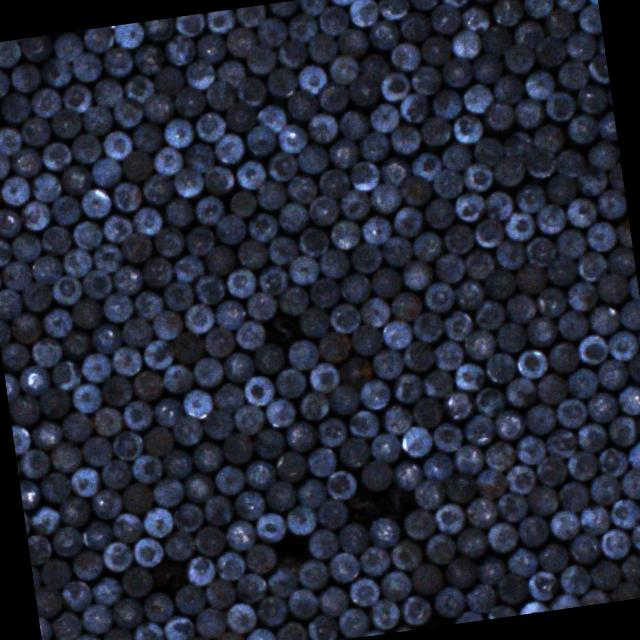tool: (467, 534, 519, 592), (80, 562, 134, 614), (282, 462, 338, 511), (308, 570, 358, 623), (22, 490, 72, 540), (71, 506, 120, 556), (337, 351, 375, 389), (180, 468, 218, 505), (397, 590, 435, 626), (584, 389, 622, 425), (510, 178, 548, 214), (542, 171, 580, 207), (232, 156, 270, 192), (242, 122, 280, 158), (554, 56, 592, 92), (160, 31, 198, 67), (556, 478, 593, 514), (222, 516, 258, 553), (170, 498, 207, 534), (479, 436, 516, 472), (513, 345, 550, 381), (120, 148, 156, 185), (532, 120, 569, 156), (523, 66, 560, 102), (160, 114, 197, 150), (170, 83, 207, 119), (386, 121, 424, 156), (494, 571, 530, 607), (110, 594, 146, 630), (409, 560, 445, 596), (294, 556, 330, 592), (454, 524, 490, 560), (304, 525, 340, 561), (473, 464, 509, 500), (220, 429, 256, 465), (533, 370, 569, 406), (110, 426, 146, 462), (8, 310, 44, 346), (357, 376, 393, 412), (430, 336, 466, 372), (564, 278, 600, 314), (305, 190, 341, 226), (397, 172, 433, 208), (594, 270, 630, 306), (78, 186, 114, 222), (121, 70, 157, 106), (8, 58, 44, 94), (192, 108, 228, 144), (273, 448, 308, 485), (158, 277, 195, 312), (68, 49, 105, 84), (460, 81, 497, 116), (452, 274, 486, 312), (152, 222, 186, 260), (120, 479, 156, 514), (224, 600, 259, 636), (442, 554, 477, 590), (568, 530, 603, 566), (516, 513, 552, 548), (577, 502, 612, 538), (432, 500, 468, 535), (464, 495, 500, 530), (525, 482, 560, 518), (412, 476, 448, 511), (512, 430, 547, 466), (398, 423, 434, 458), (378, 402, 414, 437), (140, 423, 176, 458), (59, 408, 94, 444), (150, 392, 185, 428), (149, 306, 185, 341), (119, 229, 154, 265), (452, 359, 488, 394), (181, 384, 216, 420), (522, 314, 558, 349), (554, 307, 590, 342), (421, 280, 456, 316), (512, 261, 548, 296), (398, 257, 434, 292), (461, 246, 496, 282), (328, 216, 363, 252), (592, 186, 628, 221), (48, 193, 84, 228), (9, 144, 44, 180), (130, 119, 166, 154), (100, 44, 136, 79), (439, 138, 474, 174), (471, 134, 506, 170), (200, 163, 236, 198), (512, 96, 548, 131), (543, 88, 578, 124), (211, 130, 247, 165), (275, 120, 310, 156), (305, 110, 340, 146), (491, 70, 526, 106), (470, 50, 506, 85), (500, 41, 536, 76), (201, 76, 236, 112), (449, 25, 484, 61), (480, 22, 516, 57), (254, 14, 290, 49), (68, 380, 105, 414), (489, 154, 526, 188), (408, 62, 445, 96), (367, 596, 402, 631), (432, 583, 467, 618), (556, 561, 591, 596), (192, 605, 227, 640), (202, 575, 237, 610), (388, 537, 423, 572), (337, 434, 372, 469), (461, 411, 496, 446), (523, 401, 558, 436), (189, 438, 224, 473), (79, 433, 114, 468), (27, 416, 62, 451), (88, 320, 123, 355), (492, 320, 527, 355), (160, 362, 195, 397), (348, 323, 383, 358), (472, 297, 507, 332), (368, 263, 403, 298), (140, 254, 175, 289), (605, 326, 640, 361), (565, 112, 600, 147), (428, 86, 463, 121), (357, 47, 392, 82), (304, 30, 339, 65), (367, 15, 402, 50), (428, 1, 463, 36), (464, 580, 498, 616), (586, 558, 622, 592), (38, 554, 74, 588), (89, 486, 125, 520), (286, 586, 320, 622), (535, 538, 569, 574), (600, 524, 634, 560), (326, 549, 360, 585), (486, 518, 520, 554), (366, 514, 400, 550), (504, 460, 538, 496), (564, 448, 600, 482), (544, 426, 580, 460), (430, 420, 466, 454), (282, 418, 318, 452), (47, 440, 83, 474), (78, 266, 114, 300), (262, 396, 298, 430), (390, 370, 426, 404), (306, 359, 342, 393), (402, 338, 436, 374), (220, 350, 256, 384), (502, 291, 538, 325), (200, 324, 236, 358), (274, 283, 310, 317), (306, 276, 342, 310), (524, 232, 558, 268), (190, 272, 226, 306), (347, 240, 383, 274), (201, 242, 237, 276), (233, 236, 269, 270), (390, 204, 426, 238), (212, 212, 248, 246), (366, 181, 402, 215), (428, 166, 464, 200), (574, 247, 608, 283), (584, 218, 618, 254), (140, 172, 176, 206), (48, 105, 84, 139), (40, 54, 74, 90), (284, 172, 320, 206), (264, 148, 300, 182), (418, 113, 454, 147), (574, 82, 610, 116), (334, 106, 370, 140), (397, 90, 433, 124), (222, 100, 258, 134), (316, 80, 352, 114), (377, 69, 413, 103), (564, 28, 600, 62), (232, 75, 268, 109), (264, 64, 298, 100), (336, 24, 370, 60), (224, 24, 258, 60), (284, 10, 320, 44), (295, 224, 332, 257), (328, 134, 361, 171), (526, 568, 560, 603), (119, 564, 154, 598), (100, 540, 135, 574), (100, 457, 134, 492), (172, 582, 207, 616), (243, 542, 278, 576), (401, 506, 436, 540), (242, 457, 276, 492), (368, 430, 403, 464), (492, 406, 526, 441), (411, 395, 446, 429), (566, 365, 600, 400), (596, 356, 630, 391), (99, 372, 133, 407), (170, 412, 204, 447), (327, 382, 361, 417), (286, 336, 321, 370), (317, 329, 351, 364), (327, 300, 362, 334), (388, 288, 423, 322), (224, 265, 258, 300), (172, 250, 206, 285), (460, 159, 495, 193), (523, 146, 558, 180), (39, 222, 74, 256), (110, 179, 144, 214), (59, 80, 94, 114), (90, 74, 125, 108), (347, 159, 382, 193), (296, 142, 331, 176), (450, 112, 485, 146), (534, 33, 568, 68), (398, 9, 432, 44), (48, 607, 84, 640), (232, 571, 268, 604), (587, 472, 623, 505), (182, 300, 218, 333), (212, 296, 248, 329), (408, 228, 444, 261), (440, 222, 476, 255), (422, 195, 458, 228), (28, 170, 64, 203), (255, 177, 288, 213), (316, 165, 352, 198), (408, 149, 444, 182), (180, 140, 216, 173), (80, 602, 114, 636), (142, 589, 176, 623), (70, 548, 104, 582), (50, 524, 84, 558), (111, 510, 145, 544), (56, 493, 90, 527), (68, 464, 102, 498), (255, 594, 289, 628), (264, 565, 298, 599), (358, 544, 392, 578), (423, 532, 457, 566), (182, 554, 216, 588), (336, 521, 370, 555), (534, 454, 568, 488), (231, 488, 265, 522), (554, 394, 588, 428), (252, 426, 286, 460), (596, 444, 630, 478), (38, 386, 72, 420), (130, 368, 164, 402), (140, 337, 174, 371), (120, 314, 154, 348), (40, 305, 74, 339), (100, 290, 134, 324), (232, 402, 266, 436), (297, 388, 331, 422), (546, 340, 580, 374), (370, 346, 404, 380), (462, 326, 496, 360), (440, 308, 474, 342), (534, 284, 568, 318), (358, 295, 392, 329), (244, 288, 278, 322), (432, 250, 466, 284), (554, 226, 588, 260), (286, 252, 320, 286), (472, 214, 506, 248), (266, 232, 300, 266), (359, 212, 393, 246), (183, 222, 217, 256), (244, 208, 278, 242), (586, 302, 620, 336), (564, 195, 598, 229), (100, 210, 134, 244), (18, 198, 52, 232), (60, 163, 94, 197), (81, 103, 115, 137), (29, 84, 63, 118), (162, 194, 196, 228), (482, 98, 516, 132), (150, 144, 184, 178), (367, 100, 401, 134), (346, 74, 380, 108), (418, 32, 452, 66), (183, 56, 217, 90), (194, 30, 228, 64), (443, 470, 478, 503), (151, 475, 186, 508), (213, 462, 246, 497), (346, 407, 381, 440), (16, 446, 51, 479), (78, 350, 113, 383), (242, 373, 277, 406), (338, 271, 373, 304), (0, 89, 33, 124), (132, 41, 165, 76), (358, 458, 394, 490), (16, 364, 52, 396), (70, 294, 102, 330), (576, 331, 608, 367), (254, 262, 290, 294), (336, 606, 369, 640), (60, 578, 93, 612), (132, 534, 165, 568), (142, 505, 176, 538), (130, 452, 163, 486), (506, 544, 539, 578), (496, 491, 530, 524), (163, 528, 196, 562), (284, 502, 317, 536), (315, 497, 349, 530), (202, 492, 235, 526), (263, 478, 296, 512), (574, 421, 608, 454), (160, 447, 193, 481), (314, 415, 348, 448), (442, 388, 476, 421), (504, 375, 537, 409), (607, 497, 640, 531), (90, 403, 123, 437), (119, 398, 153, 431), (49, 358, 82, 392), (110, 344, 143, 378), (130, 287, 164, 320), (21, 278, 54, 312), (28, 251, 62, 284), (201, 407, 235, 440), (274, 365, 308, 398), (252, 342, 286, 375), (232, 318, 265, 352), (482, 267, 516, 300), (574, 164, 608, 197), (72, 218, 105, 252), (132, 205, 166, 238), (101, 128, 134, 162), (112, 95, 146, 128), (285, 88, 319, 121), (328, 52, 362, 85), (513, 17, 547, 50), (244, 42, 277, 76), (275, 36, 308, 70), (458, 1, 492, 34), (318, 3, 352, 36), (548, 507, 580, 542), (392, 457, 424, 492), (493, 238, 528, 270), (502, 210, 537, 242), (533, 202, 568, 234), (605, 244, 637, 279), (378, 154, 413, 186), (59, 328, 92, 361), (51, 273, 84, 306), (483, 351, 516, 384), (297, 305, 330, 338), (338, 186, 371, 219), (554, 145, 587, 178), (584, 138, 617, 171), (440, 55, 473, 88), (152, 63, 185, 96), (214, 56, 247, 89), (348, 576, 382, 608), (378, 568, 412, 600), (214, 548, 246, 582), (254, 511, 288, 543), (420, 450, 454, 482), (452, 442, 484, 476), (472, 383, 506, 415), (60, 246, 94, 278), (89, 240, 123, 272), (191, 356, 225, 388), (380, 318, 414, 350), (410, 310, 442, 344), (170, 331, 204, 363), (544, 254, 578, 286), (317, 248, 351, 280), (482, 188, 516, 220), (276, 200, 310, 232), (10, 229, 42, 263), (90, 156, 124, 188), (70, 132, 104, 164), (20, 114, 52, 148), (502, 128, 536, 160), (358, 130, 392, 162), (142, 90, 174, 124), (388, 40, 422, 72), (543, 6, 577, 38), (40, 470, 72, 503), (192, 524, 225, 556), (325, 468, 358, 500), (306, 444, 338, 477), (606, 414, 639, 446), (8, 394, 41, 426), (29, 336, 62, 368), (0, 259, 32, 292), (0, 173, 32, 206), (192, 194, 225, 226), (171, 166, 204, 198), (296, 62, 328, 95), (0, 338, 31, 372), (51, 30, 85, 61), (254, 101, 288, 132), (304, 611, 340, 640), (212, 380, 244, 412), (380, 234, 412, 266), (227, 188, 259, 220), (34, 584, 64, 618), (110, 264, 144, 294), (161, 611, 196, 640), (422, 366, 454, 397), (454, 190, 486, 221), (41, 140, 74, 170), (112, 22, 147, 50), (82, 26, 116, 54), (490, 0, 525, 27), (20, 35, 53, 63), (347, 0, 380, 27), (204, 9, 238, 35), (576, 2, 602, 36), (27, 532, 54, 564), (172, 13, 206, 38), (0, 205, 23, 240), (616, 383, 640, 416), (0, 123, 24, 156), (143, 18, 176, 42), (0, 285, 23, 319), (616, 299, 640, 331), (234, 4, 266, 28), (619, 549, 640, 585), (273, 618, 307, 640), (608, 579, 640, 602), (595, 110, 618, 142), (619, 466, 640, 501), (377, 0, 412, 21), (588, 52, 610, 85), (612, 214, 632, 250), (20, 477, 42, 509), (131, 619, 164, 640), (522, 0, 557, 19), (605, 161, 625, 193), (0, 39, 22, 68), (578, 586, 609, 606), (12, 421, 30, 455), (548, 592, 580, 611), (266, 1, 298, 20), (296, 0, 329, 18), (484, 602, 516, 620), (101, 624, 136, 640), (625, 437, 640, 474), (244, 623, 276, 640), (624, 351, 640, 384), (552, 0, 588, 13), (4, 371, 20, 400), (0, 234, 13, 268), (408, 0, 443, 12), (0, 148, 12, 182), (211, 629, 247, 640), (0, 65, 11, 99), (630, 518, 640, 554), (0, 316, 12, 346), (70, 630, 105, 640), (439, 0, 472, 8), (634, 407, 640, 441), (326, 0, 358, 6)
tool_b: (327, 467, 429, 537), (138, 543, 200, 602), (405, 600, 466, 631), (264, 310, 304, 348)
void: (262, 519, 322, 578)
